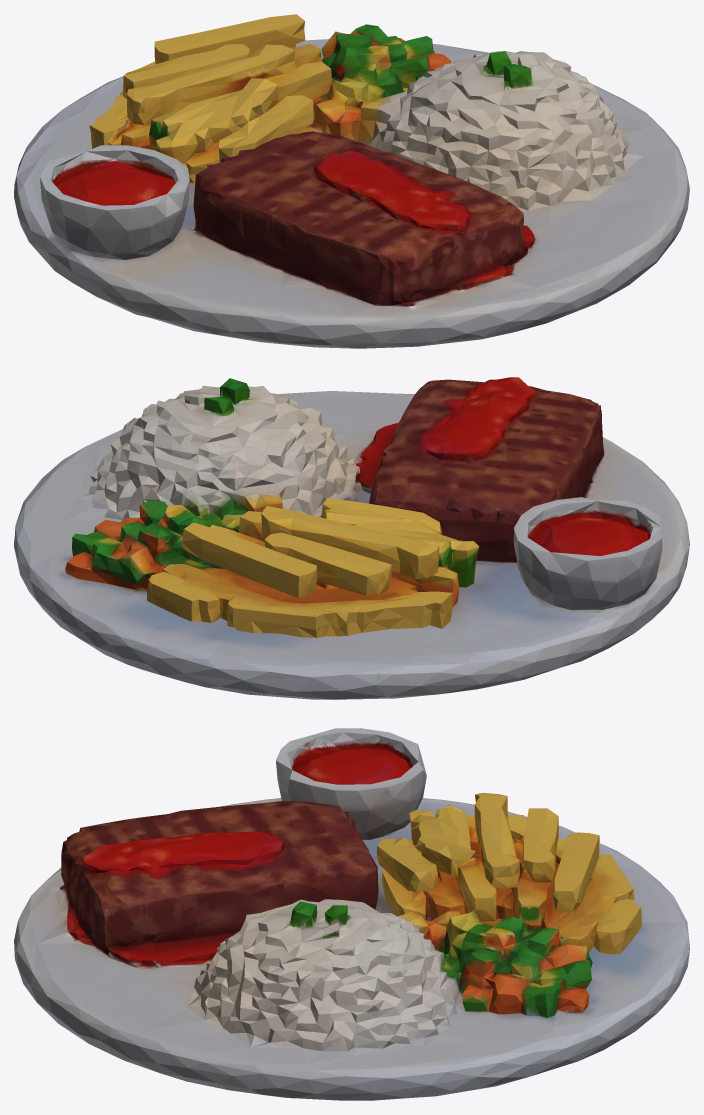
Rendered from steak+plate+3d+model.glb.
3 views of the same model, one above another, from view 1: azimuth 30°, elevation 25°; view 2: azimuth 150°, elevation 25°; view 3: azimuth 270°, elevation 25° (orthographic).
Visible parts, largest first — view 1: tripo_node_a1e5e61c-9374-4ec9-8ad6-2db498e34f25; view 2: tripo_node_a1e5e61c-9374-4ec9-8ad6-2db498e34f25; view 3: tripo_node_a1e5e61c-9374-4ec9-8ad6-2db498e34f25.
Boxes of the visible parts, <box> form: tripo_node_a1e5e61c-9374-4ec9-8ad6-2db498e34f25: <box>14,14,689,348</box>; tripo_node_a1e5e61c-9374-4ec9-8ad6-2db498e34f25: <box>14,377,689,699</box>; tripo_node_a1e5e61c-9374-4ec9-8ad6-2db498e34f25: <box>14,728,689,1100</box>.
Size of the model in its own units: 0.9951 by 0.2071 by 0.9895.
1 material, 1 textured.
